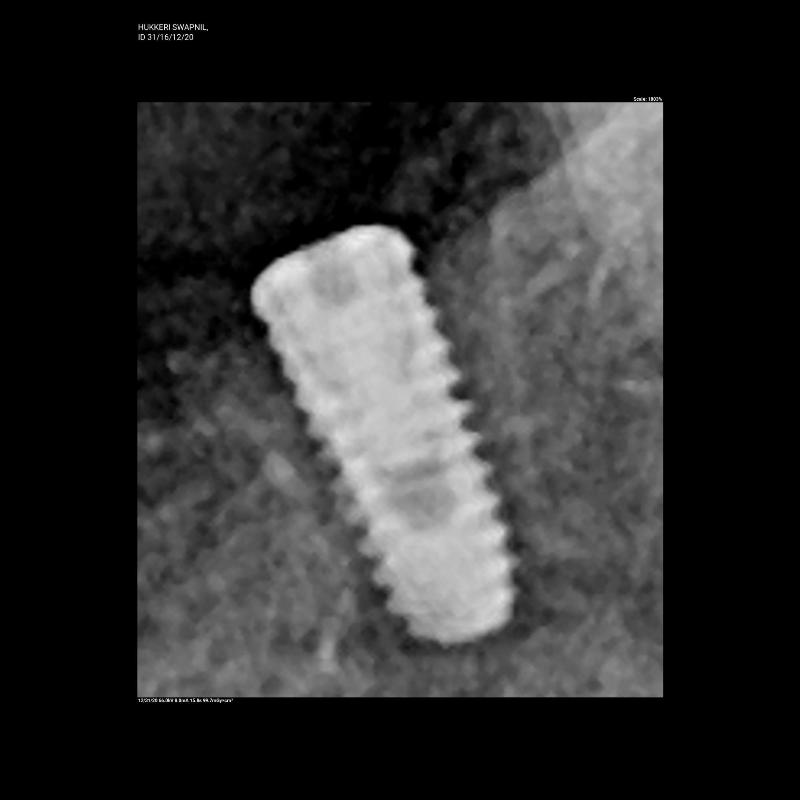osstem: (232, 226, 528, 634)
